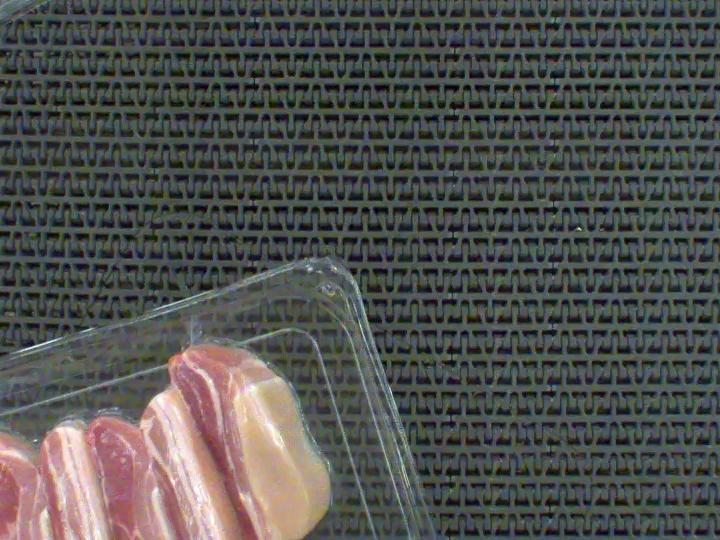unsealed: (0, 289, 350, 534)
